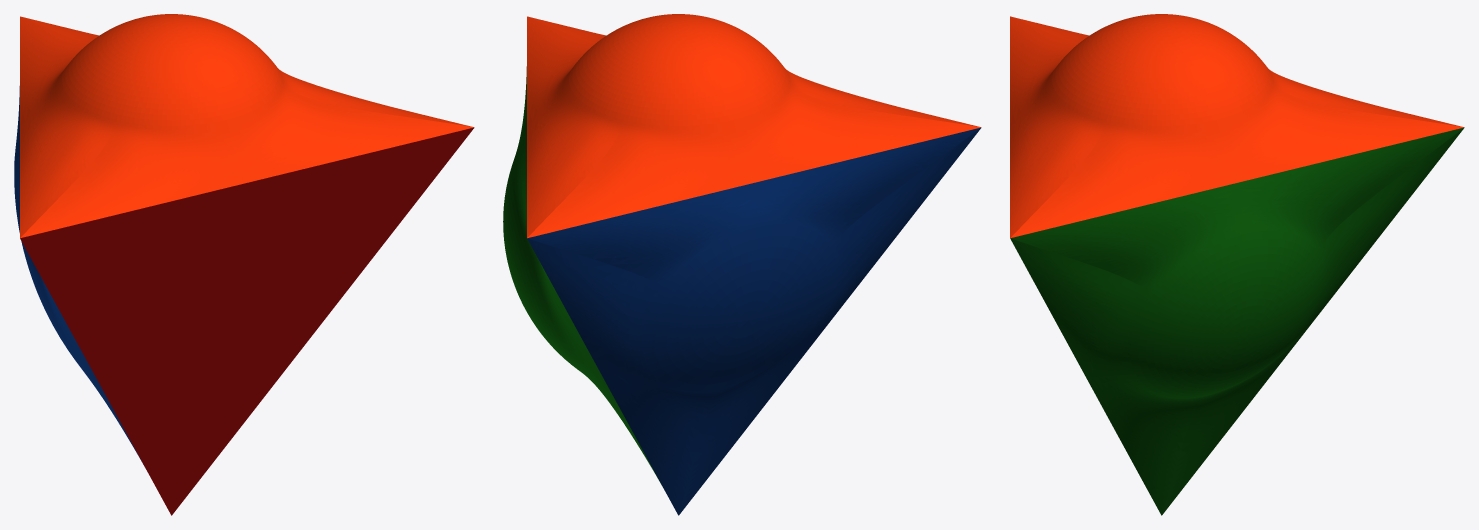
Rendered from 3_0_1_2_tetrahedron.obj.
3 renders of one model, left to right at view 1: azimuth 30°, elevation 25°; view 2: azimuth 150°, elevation 25°; view 3: azimuth 270°, elevation 25°, orthographic.
Visible parts, largest first — view 1: Level_0_-_level_0_front, Level_3_-_level_3_top_Level_3_-_level_3_top.001, Level_1_-_level_1_left_Level_1_-_level_1_left.002; view 2: Level_1_-_level_1_left_Level_1_-_level_1_left.002, Level_3_-_level_3_top_Level_3_-_level_3_top.001, Level_2_-_level_2_right_Level_2_-_level_2_right.001; view 3: Level_2_-_level_2_right_Level_2_-_level_2_right.001, Level_3_-_level_3_top_Level_3_-_level_3_top.001.
Boxes of the visible parts, x1,y1,x2,y2 form: Level_0_-_level_0_front: (20,127,474,515); Level_3_-_level_3_top_Level_3_-_level_3_top.001: (20,14,473,238); Level_1_-_level_1_left_Level_1_-_level_1_left.002: (14,86,143,464); Level_1_-_level_1_left_Level_1_-_level_1_left.002: (527,127,981,515); Level_3_-_level_3_top_Level_3_-_level_3_top.001: (527,14,980,238); Level_2_-_level_2_right_Level_2_-_level_2_right.001: (503,66,664,490); Level_2_-_level_2_right_Level_2_-_level_2_right.001: (1010,127,1464,515); Level_3_-_level_3_top_Level_3_-_level_3_top.001: (1010,14,1463,238).
Size of the model in its own units: 0.1 by 0.1029 by 0.0866.
